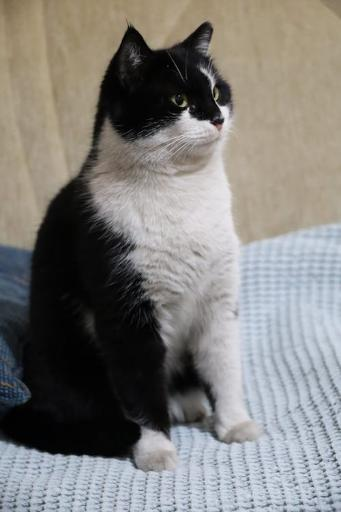cat_sitting: (3, 23, 257, 470)
